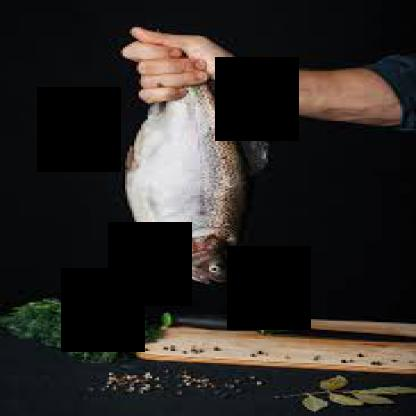fish: (112, 35, 274, 286)
